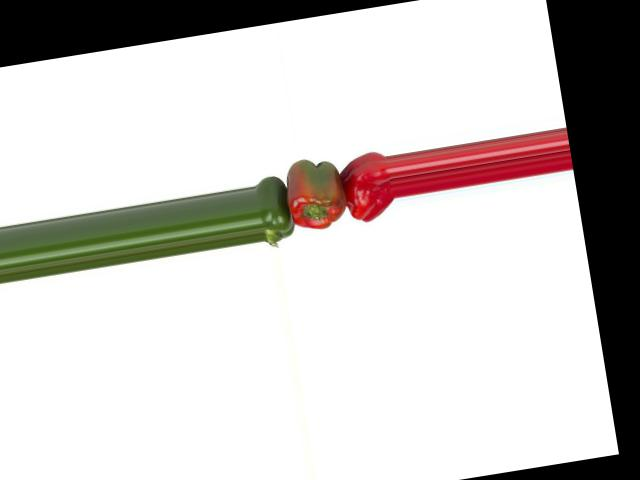bell_pepper: (335, 146, 398, 230)
